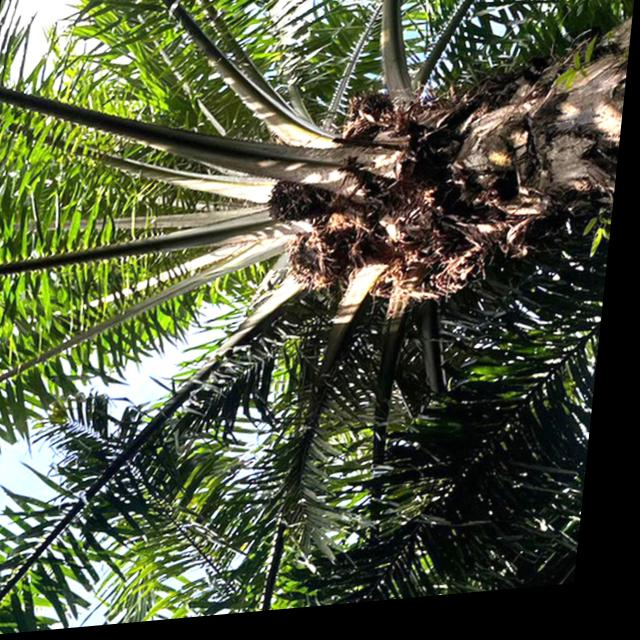unripe: (287, 234, 354, 307), (265, 179, 333, 234)
